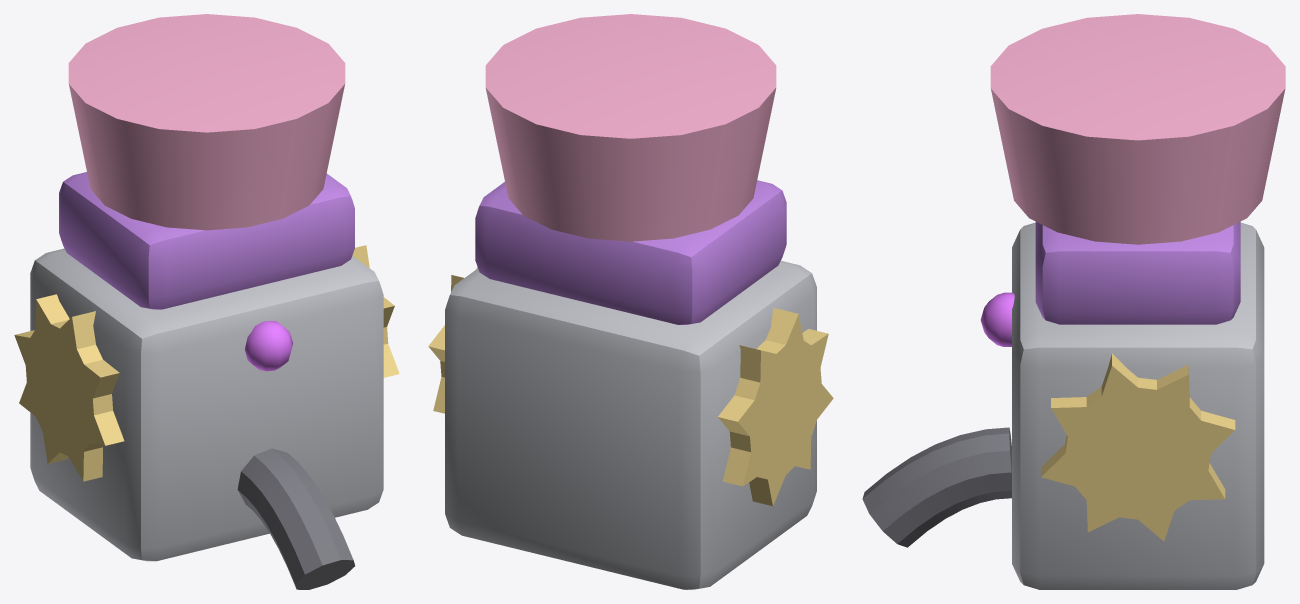
Rendered from CandyMachine_Press.fbx.
3 views of the same model, side by side, from view 1: azimuth 30°, elevation 25°; view 2: azimuth 150°, elevation 25°; view 3: azimuth 270°, elevation 25° (orthographic). The views are drawn at different scales.
Parts seen in each view (by area): view 1: CandyMachine_Press; view 2: CandyMachine_Press; view 3: CandyMachine_Press.
Boxes of the visible parts, x1,y1,x2,y2 form: CandyMachine_Press: (14,14,399,589); CandyMachine_Press: (428,14,833,589); CandyMachine_Press: (862,14,1285,589).
Size of the model in its own units: 4.6 by 6.63 by 5.37.
